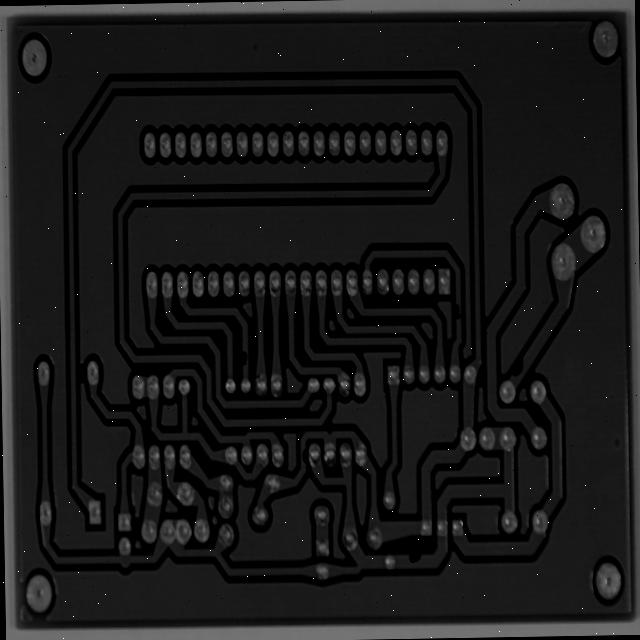mouse_bite: (505, 336, 525, 370), (401, 543, 422, 569), (228, 331, 243, 358), (447, 281, 460, 306), (292, 433, 300, 458)
